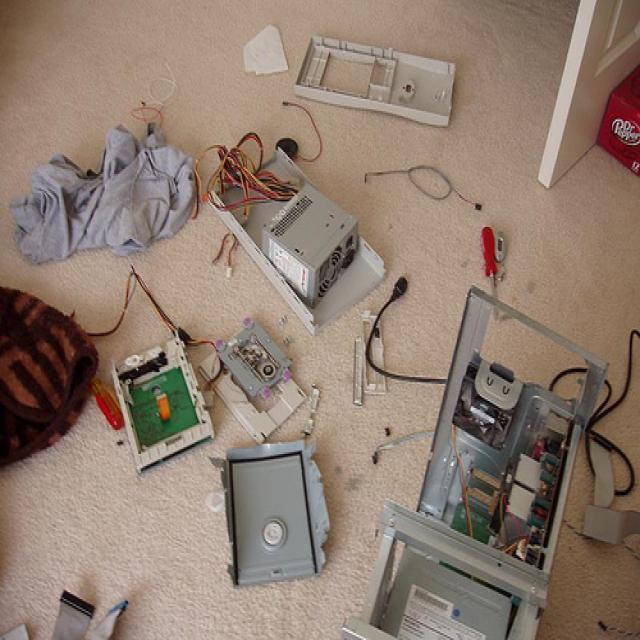screwdriver: (466, 214, 510, 330)
